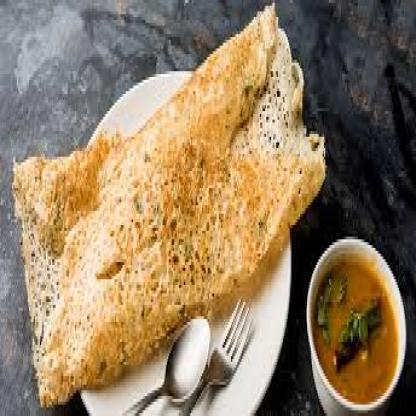dosa: (13, 4, 325, 410)
